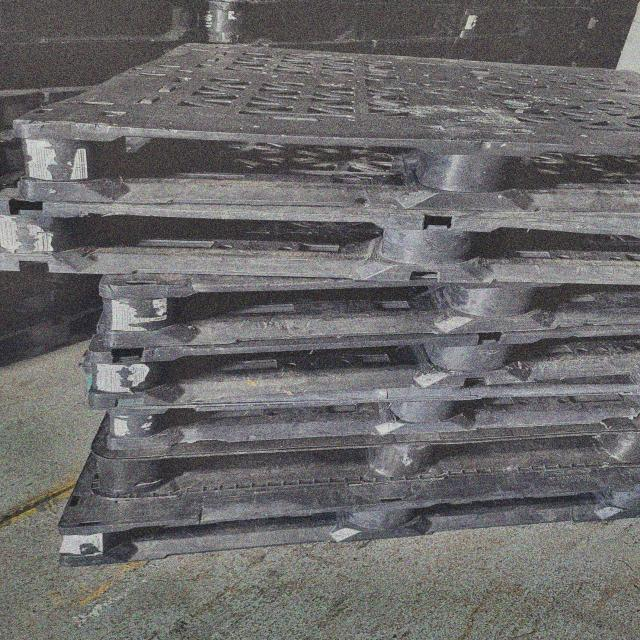igps: (0, 35, 640, 224), (49, 457, 640, 571), (0, 188, 640, 290), (89, 261, 640, 358), (75, 334, 640, 418), (81, 427, 640, 506), (102, 388, 640, 457)
